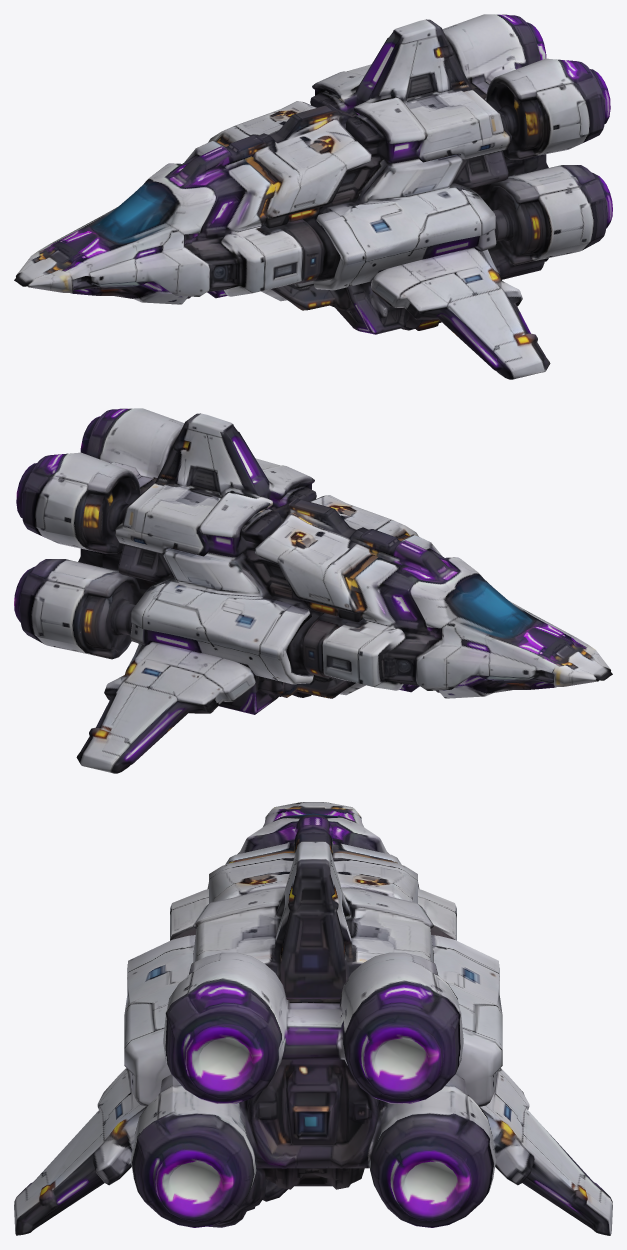
File: tripo-sample-1.glb
The picture shows the model from 3 angles, top to bottom: view 1: azimuth 30°, elevation 25°; view 2: azimuth 150°, elevation 25°; view 3: azimuth 270°, elevation 25°; orthographic projection. The views are drawn at different scales.
Visible parts, largest first — view 1: c63a7325_30e0_430c_9024_d13708228cc1; view 2: c63a7325_30e0_430c_9024_d13708228cc1; view 3: c63a7325_30e0_430c_9024_d13708228cc1.
Boxes of the visible parts, x1,y1,x2,y2 form: c63a7325_30e0_430c_9024_d13708228cc1: [14, 14, 612, 379]; c63a7325_30e0_430c_9024_d13708228cc1: [14, 408, 612, 773]; c63a7325_30e0_430c_9024_d13708228cc1: [14, 802, 612, 1235].
Bounding box in the file's own units: 0.9995 × 0.4761 × 0.6919.
Materials: 1 (1 with a texture image).
